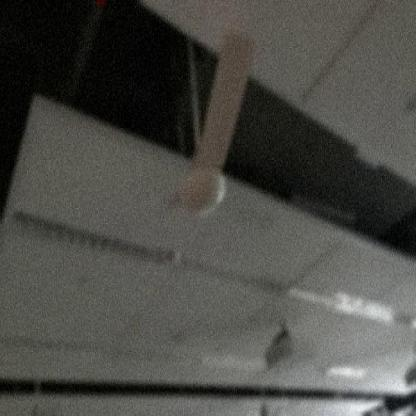light_off: (7, 193, 186, 283), (260, 255, 370, 322), (200, 340, 270, 386), (326, 356, 377, 386)
